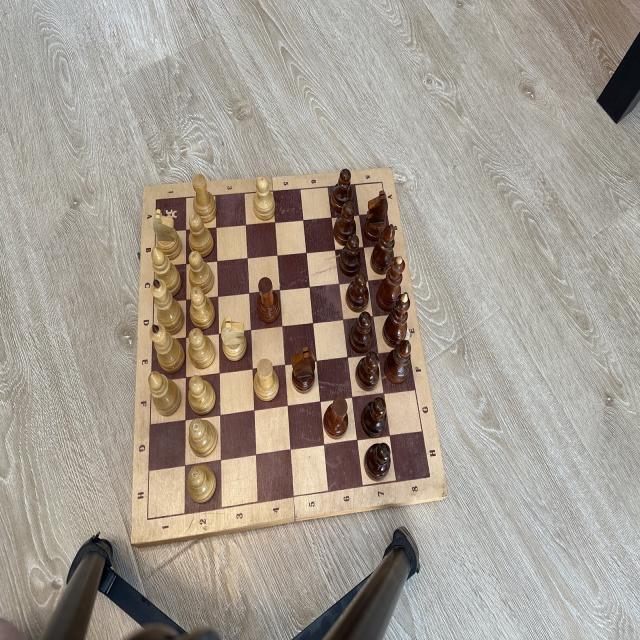chess-table-corners: (426, 469, 434, 484), (144, 512, 152, 526), (378, 178, 386, 188), (153, 195, 160, 205)
